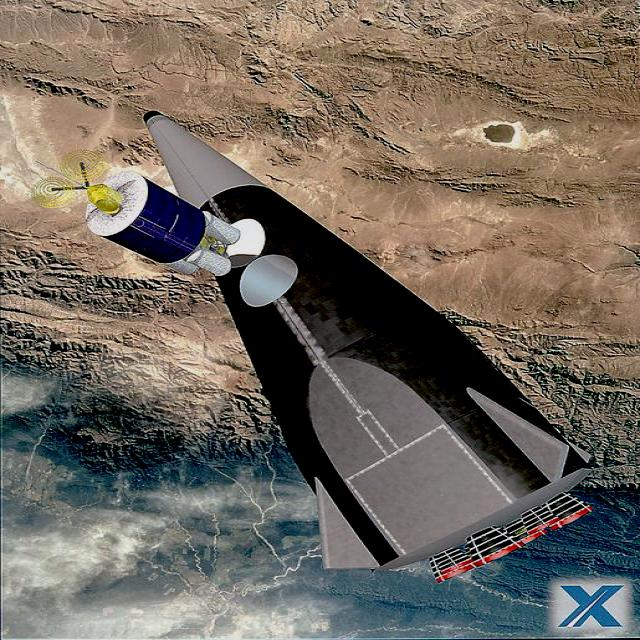satellite: (36, 112, 589, 577)
